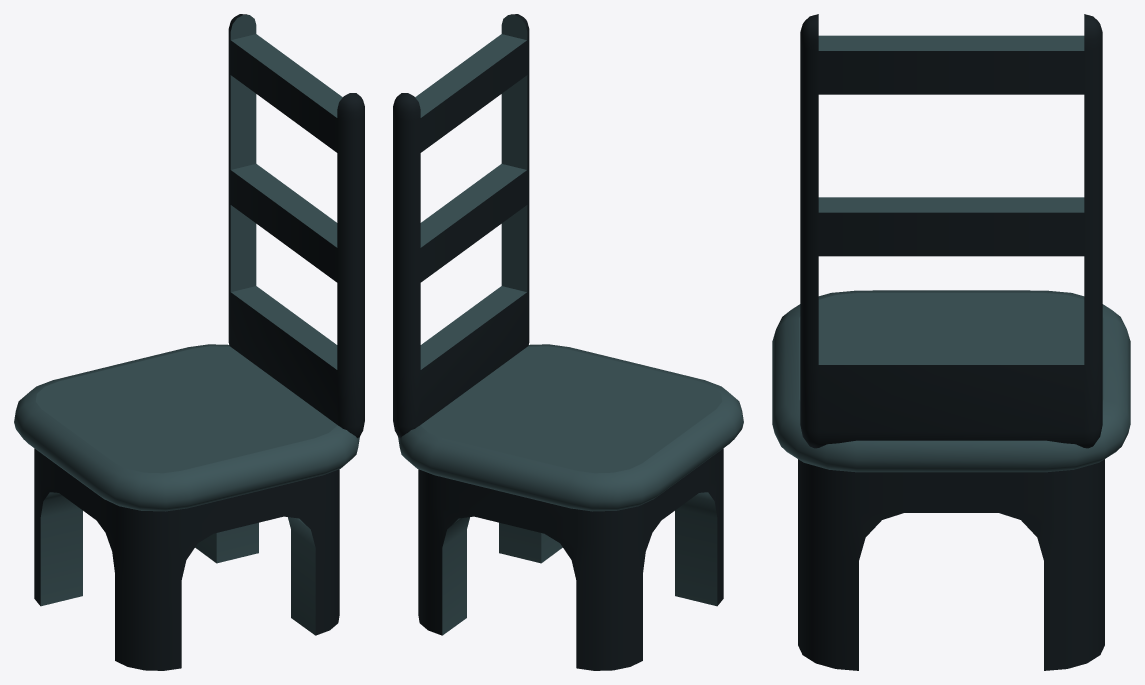
Rendered from FI_059_chair.glb.
The picture shows the model from 3 angles, left to right: view 1: azimuth 30°, elevation 25°; view 2: azimuth 150°, elevation 25°; view 3: azimuth 270°, elevation 25°; orthographic projection. The views are drawn at different scales.
Visible parts, largest first — view 1: chair; view 2: chair; view 3: chair.
Part boxes in pixels (<box>): chair: <box>14,14,364,670</box>; chair: <box>393,14,743,670</box>; chair: <box>772,14,1130,670</box>.
Bounding box in the file's own units: 0.7467 × 1.48 × 0.7316.
